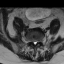CCS_severe_stenosis: (33, 39, 35, 47)
LFS_severe_stenosis: (37, 39, 39, 43)
LLS_stenosis: (35, 39, 37, 45)
RFS_severe_stenosis: (30, 38, 32, 43)
RLS_severe_stenosis: (32, 39, 34, 45)
